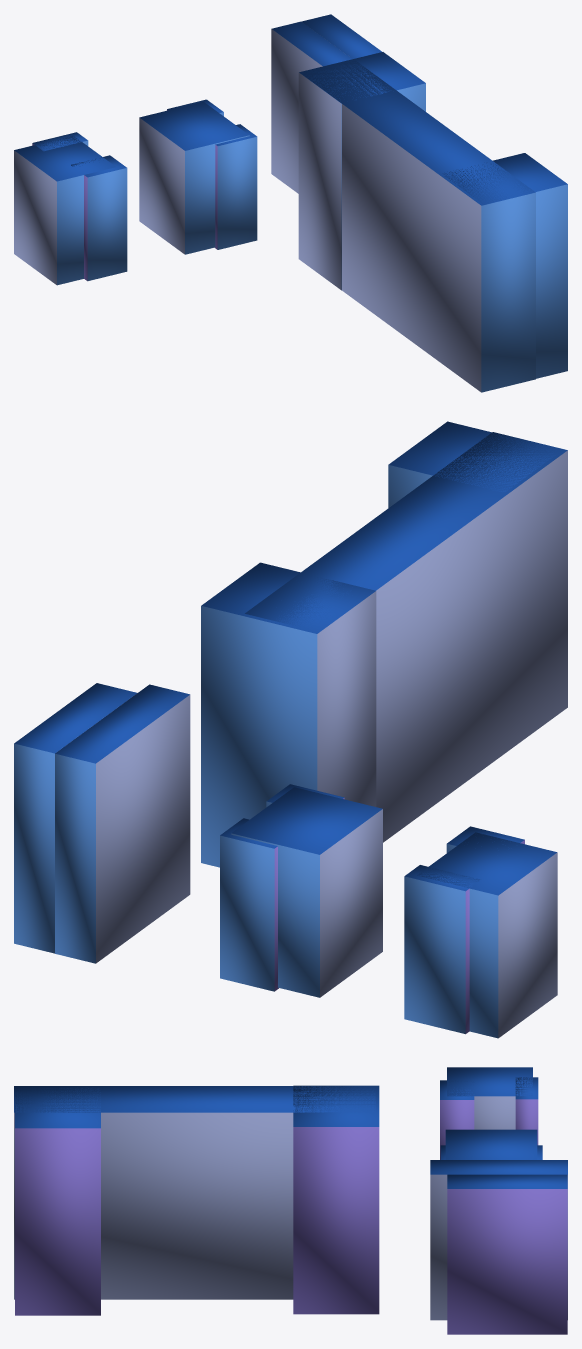
3 renders of one model, top to bottom at view 1: azimuth 30°, elevation 25°; view 2: azimuth 150°, elevation 25°; view 3: azimuth 270°, elevation 25°, orthographic. The views are drawn at different scales.
Parts seen in each view (by area): view 1: Box001, Box003, Box006, Box009, Box002, Box004, Box010, Box008, Box011; view 2: Box001, Box004, Box003, Box006, Box009, Box011, Box007, Box002; view 3: Box001, Box004, Box003, Box002, Box009, Box006, Box010, Box011.
Part boxes in pixels (box(x1,y1,x2,y2)): Box001: box(301, 60, 535, 392); Box003: box(298, 52, 425, 290); Box006: box(139, 101, 249, 254); Box009: box(14, 136, 115, 285); Box002: box(444, 153, 567, 378); Box004: box(271, 14, 381, 193); Box010: box(71, 155, 127, 281); Box008: box(215, 124, 257, 249); Box011: box(32, 132, 88, 151); Box001: box(245, 432, 567, 842); Box004: box(14, 683, 190, 963); Box003: box(201, 562, 376, 867); Box006: box(231, 787, 382, 997); Box009: box(417, 832, 557, 1038); Box011: box(404, 865, 480, 1034); Box007: box(220, 818, 278, 991); Box002: box(388, 421, 562, 507); Box001: box(14, 1086, 375, 1299); Box004: box(430, 1160, 567, 1334); Box003: box(293, 1085, 379, 1314); Box002: box(15, 1087, 100, 1315); Box009: box(447, 1067, 532, 1129); Box006: box(445, 1129, 537, 1159); Box010: box(440, 1080, 474, 1159); Box011: box(515, 1077, 538, 1145).
Bounding box in the file's own units: 2655 × 1425 × 3801.
